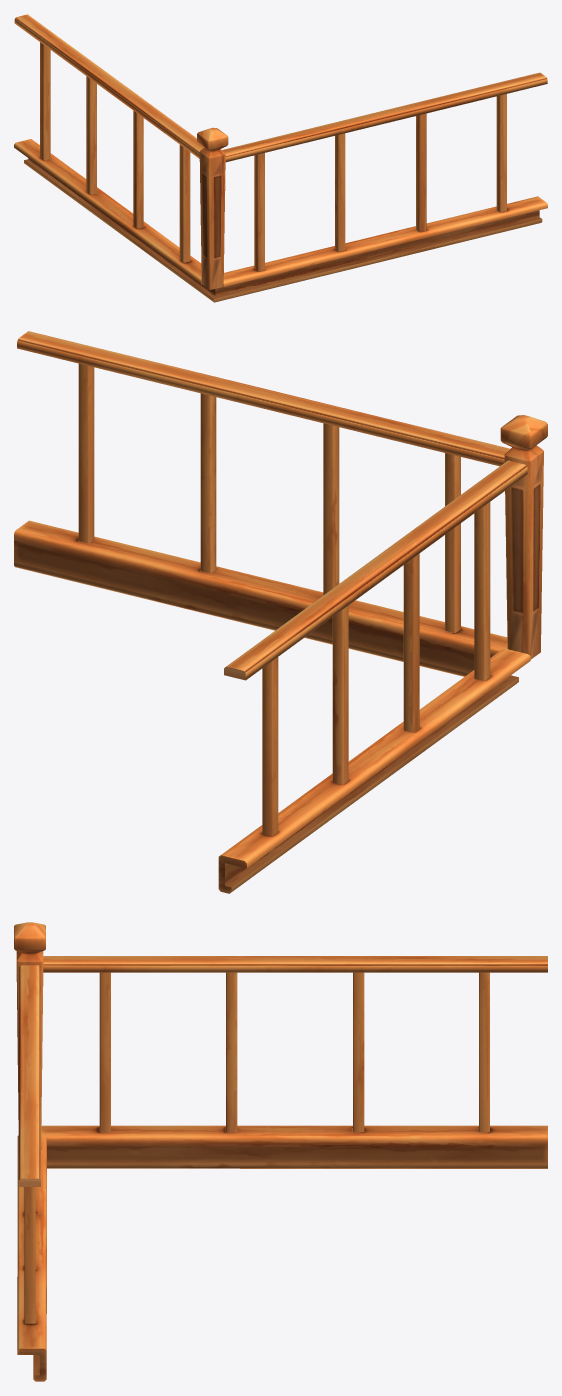
File: PropStairs01PTypeB3.FBX
The picture shows the model from 3 angles, top to bottom: view 1: azimuth 30°, elevation 25°; view 2: azimuth 150°, elevation 25°; view 3: azimuth 270°, elevation 25°; orthographic projection. The views are drawn at different scales.
Visible parts, largest first — view 1: PropStairs01PTypeB3; view 2: PropStairs01PTypeB3; view 3: PropStairs01PTypeB3.
Part boxes in pixels (<box>): PropStairs01PTypeB3: <box>14,14,547,302</box>; PropStairs01PTypeB3: <box>14,331,547,893</box>; PropStairs01PTypeB3: <box>14,922,547,1381</box>.
Size of what is drawn, in the model's own units: 2.37 by 1.16 by 2.37.
